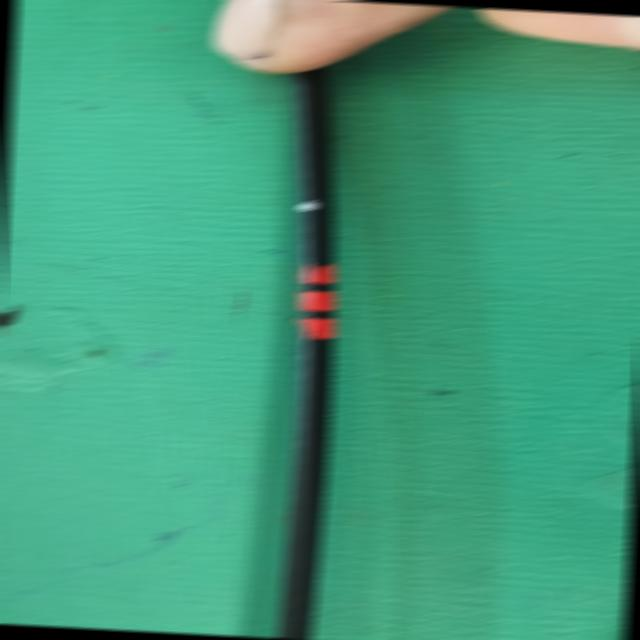red: (298, 261, 341, 344)
